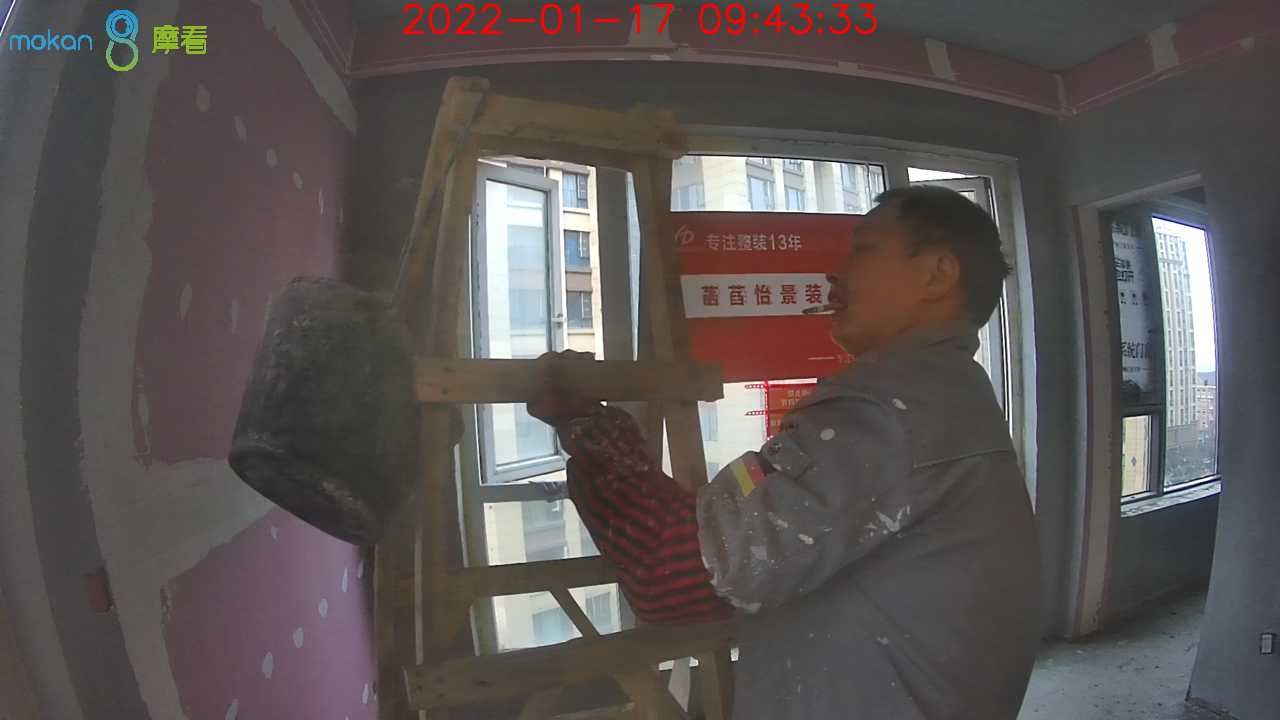people: (544, 183, 1044, 720)
window: (458, 132, 1038, 659)
